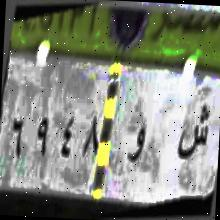4: (58, 116, 78, 162)
6: (6, 111, 29, 158)
8: (78, 111, 102, 161)
9: (32, 110, 54, 164)
sheen: (174, 96, 214, 168)
waw: (126, 117, 150, 168)
